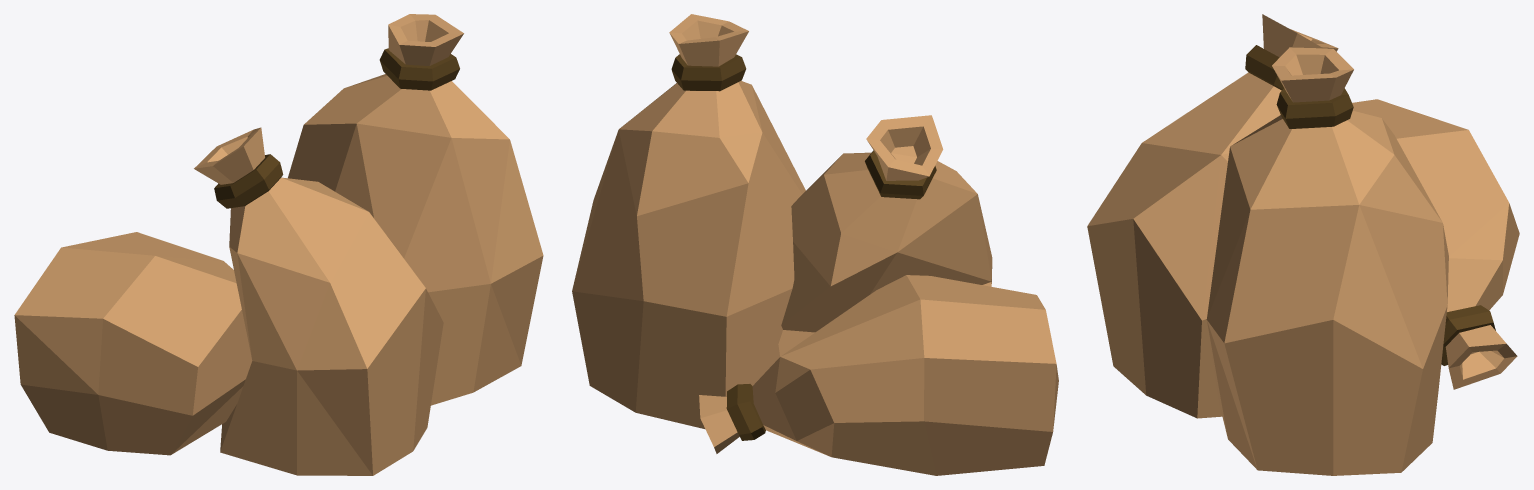
File: karung.fbx
3 renders of one model, left to right at view 1: azimuth 30°, elevation 25°; view 2: azimuth 150°, elevation 25°; view 3: azimuth 270°, elevation 25°, orthographic. The views are drawn at different scales.
Visible parts, largest first — view 1: Cube.072, Cube.071, Cube.073; view 2: Cube.071, Cube.073, Cube.072; view 3: Cube.071, Cube.072, Cube.073.
Part boxes in pixels (x1,y1,x2,y2): Cube.072: [194, 127, 443, 475]; Cube.071: [288, 14, 543, 405]; Cube.073: [14, 232, 252, 455]; Cube.071: [572, 14, 805, 428]; Cube.073: [699, 275, 1058, 475]; Cube.072: [778, 115, 992, 356]; Cube.071: [1206, 47, 1448, 475]; Cube.072: [1087, 14, 1338, 418]; Cube.073: [1352, 99, 1519, 389].
Size of the model in its own units: 137 by 99.75 by 98.5.
